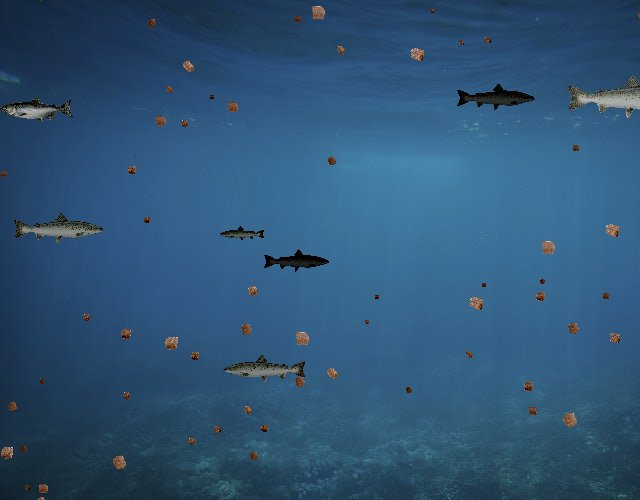Fish: (564, 73, 640, 119), (11, 212, 105, 245), (222, 353, 308, 384), (456, 83, 537, 112), (2, 96, 75, 122), (262, 248, 330, 273), (220, 226, 267, 243)
Pellet: (157, 329, 185, 357), (176, 54, 201, 79), (320, 361, 344, 385), (234, 318, 258, 342), (241, 279, 264, 302), (2, 396, 23, 417), (161, 81, 178, 98), (78, 310, 94, 326), (480, 33, 494, 47), (536, 275, 549, 288), (21, 482, 33, 494)
